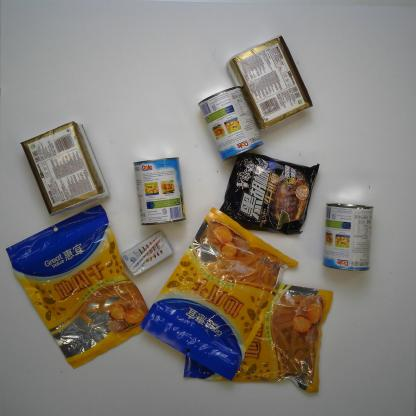Canned Food: (198, 84, 269, 163), (125, 154, 196, 230), (316, 201, 381, 274)
Dried Fruit: (146, 208, 304, 379), (7, 205, 154, 369), (183, 273, 329, 391)
Instant Noodles: (215, 145, 320, 235)
Milk: (119, 230, 173, 278)
Tissue: (18, 115, 118, 216), (230, 34, 320, 133)
